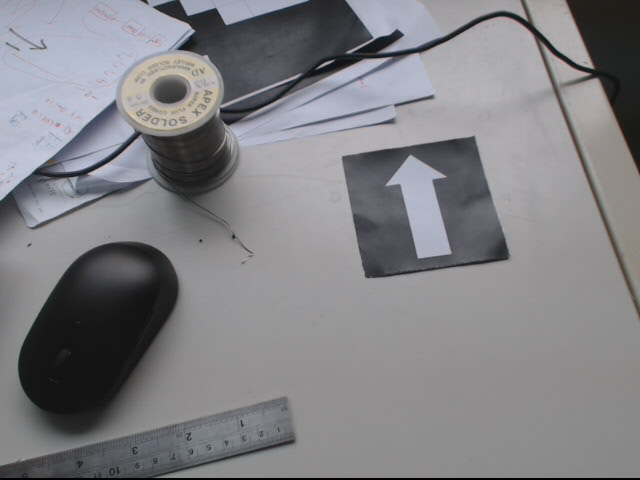straight: (343, 135, 508, 278)
